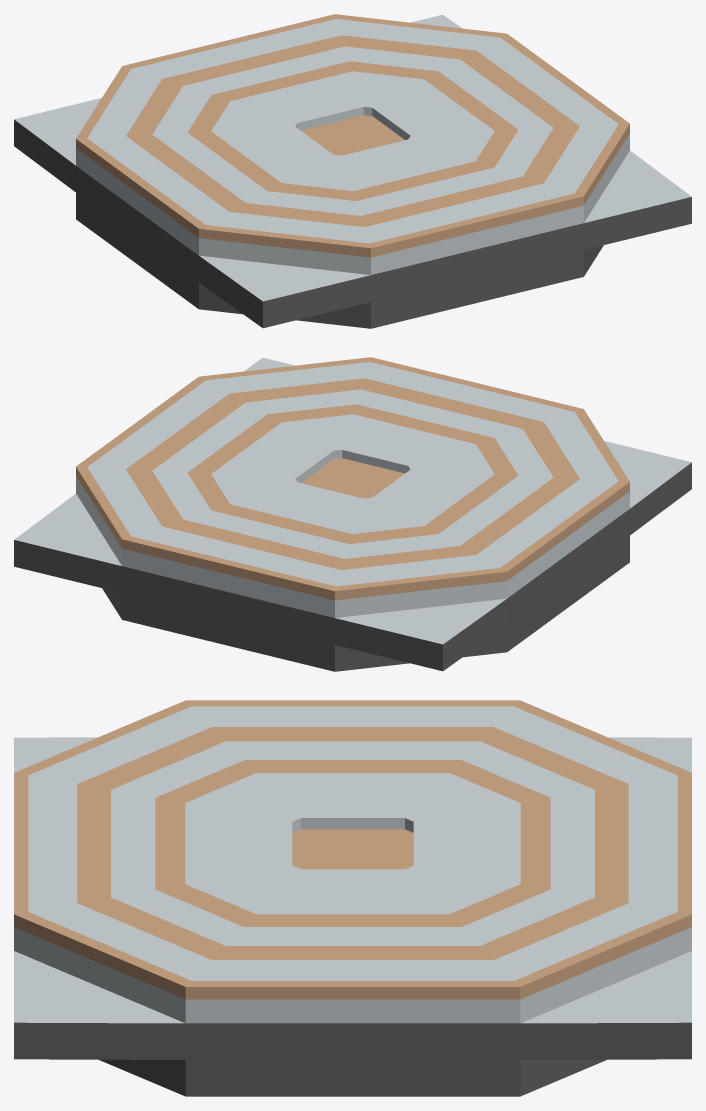
The picture shows the model from 3 angles, top to bottom: view 1: azimuth 30°, elevation 25°; view 2: azimuth 150°, elevation 25°; view 3: azimuth 270°, elevation 25°; orthographic projection. The views are drawn at different scales.
Visible parts, largest first — view 1: Куб.008; view 2: Куб.008; view 3: Куб.008.
Boxes of the visible parts, box(x1,y1,x2,y2) form: Куб.008: box(14, 14, 691, 328); Куб.008: box(14, 357, 691, 671); Куб.008: box(14, 700, 691, 1096).
Bounding box in the file's own units: 700 × 125 × 700.
